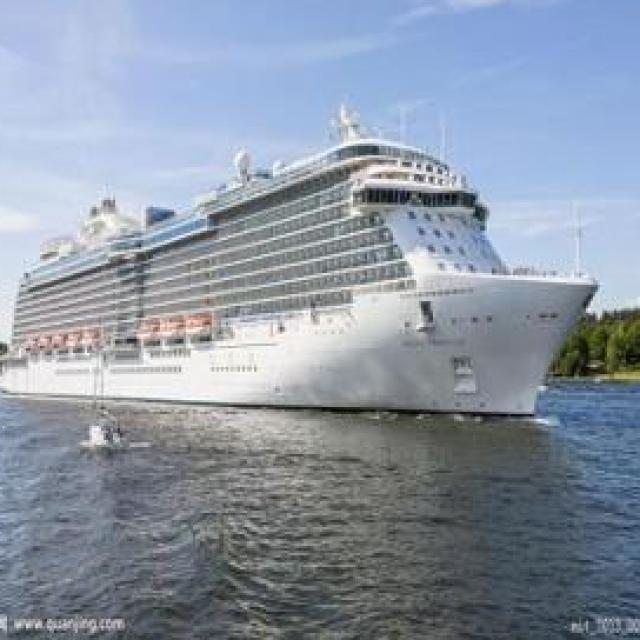passenger ship: (0, 132, 588, 412)
